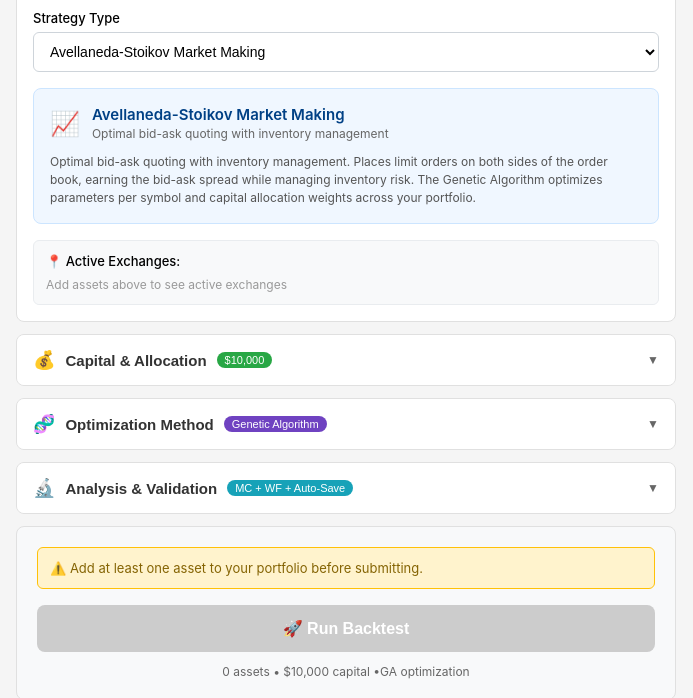
Test: BacktestForm › can switch to manual parameters mode
This screenshot has width=693, height=698.
(page scrolled)
Note: Click to expand the optimization section
Click the text "Optimization Method": (140, 424) [66, 416, 214, 432]
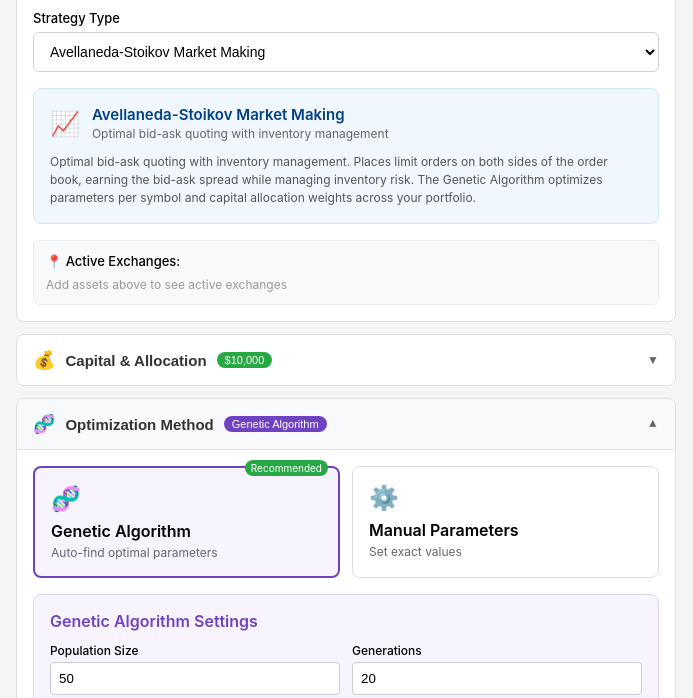
Check: the text "Manual Parameters" is shown, box [369, 520, 519, 540]
Click the radio button "⚙️ Manual Parameters Set exact values": (506, 522) [352, 466, 659, 578]
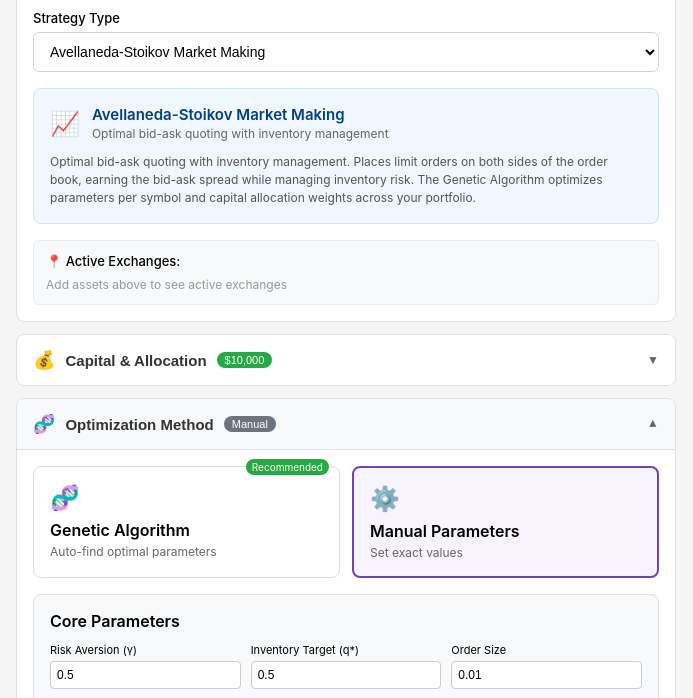
Check: the text "Risk Aversion (γ)" is shown, box [50, 643, 137, 657]
Check: the text "Inventory Target (q*)" is shown, box [251, 643, 359, 657]
Check: the text "Order Size" is shown, box [451, 643, 506, 657]
